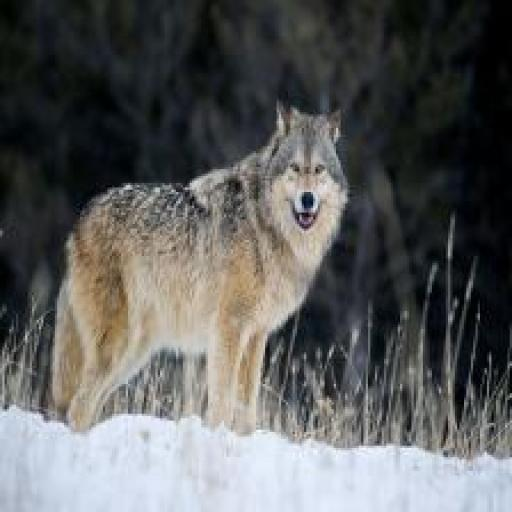wolf: (48, 94, 362, 476)
